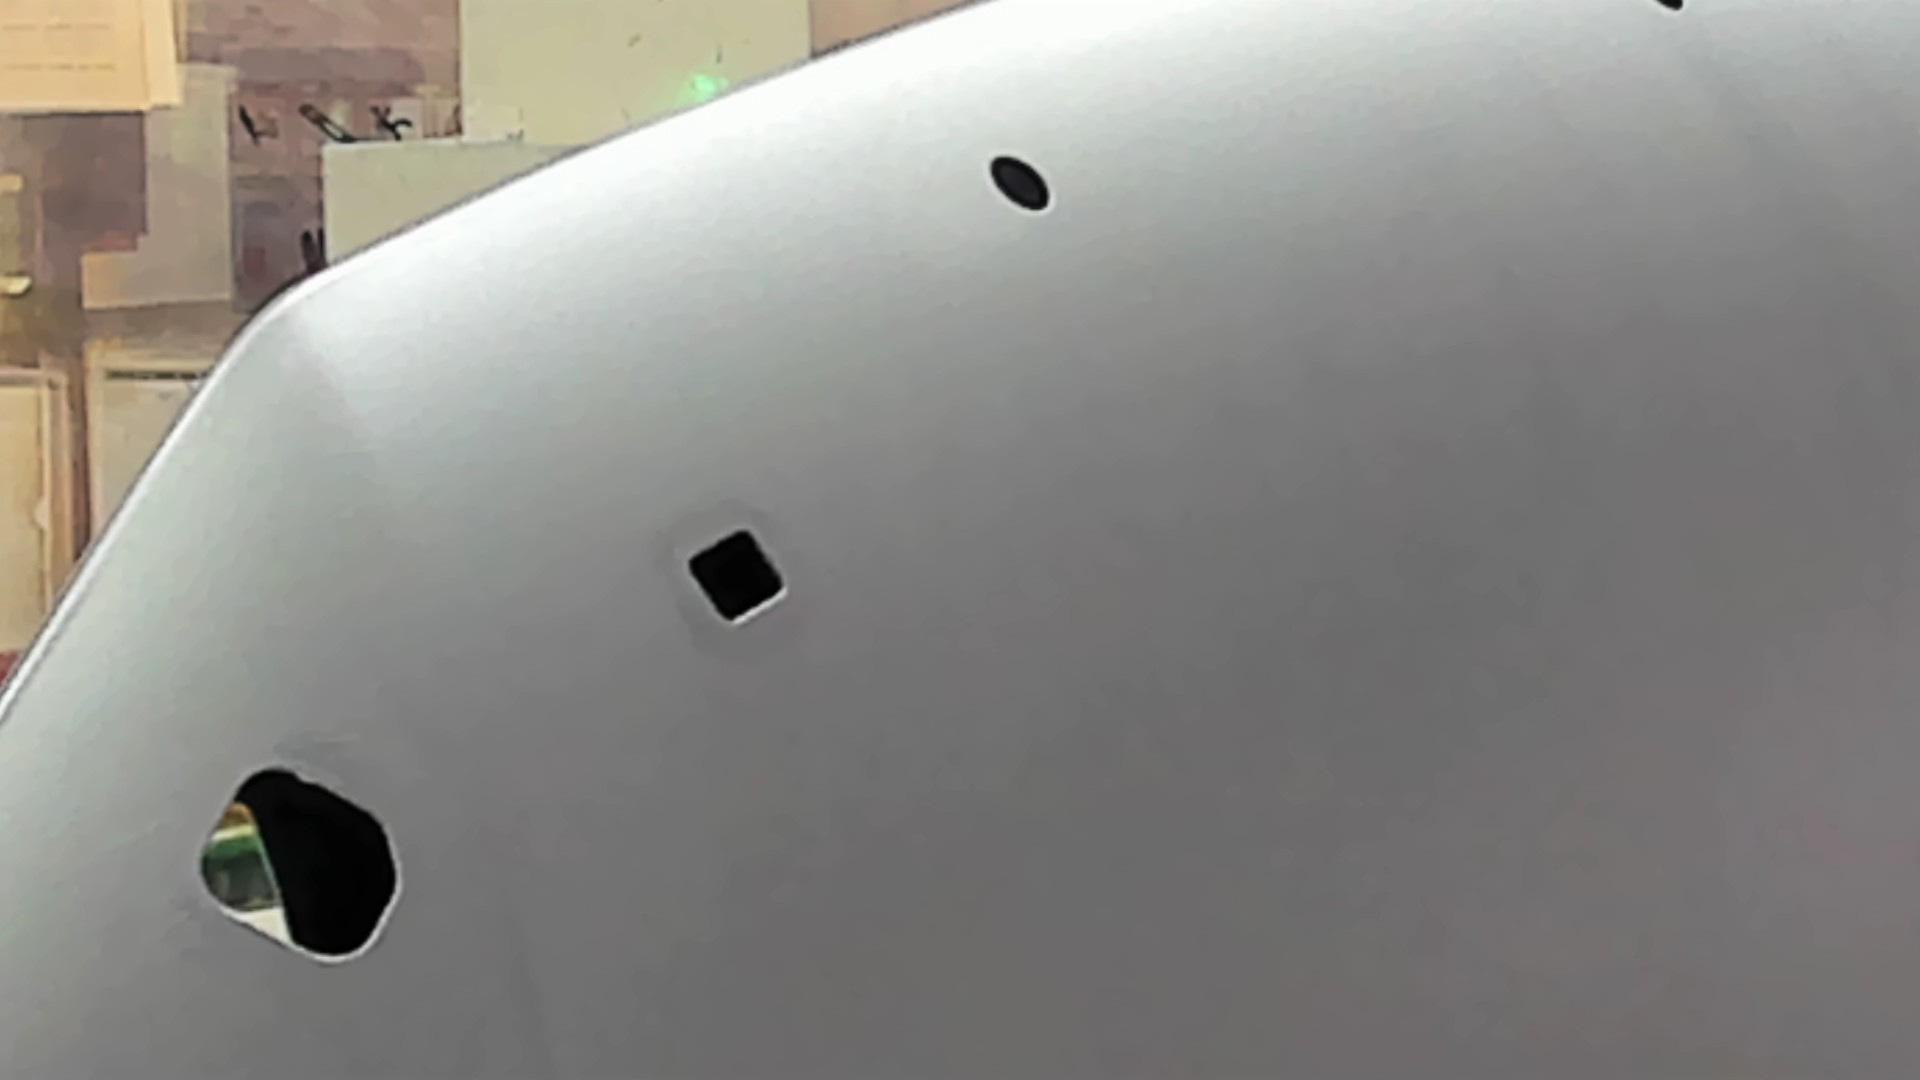chico: (980, 136, 1055, 225)
grande: (170, 754, 421, 985)
mediano: (669, 512, 820, 646)
